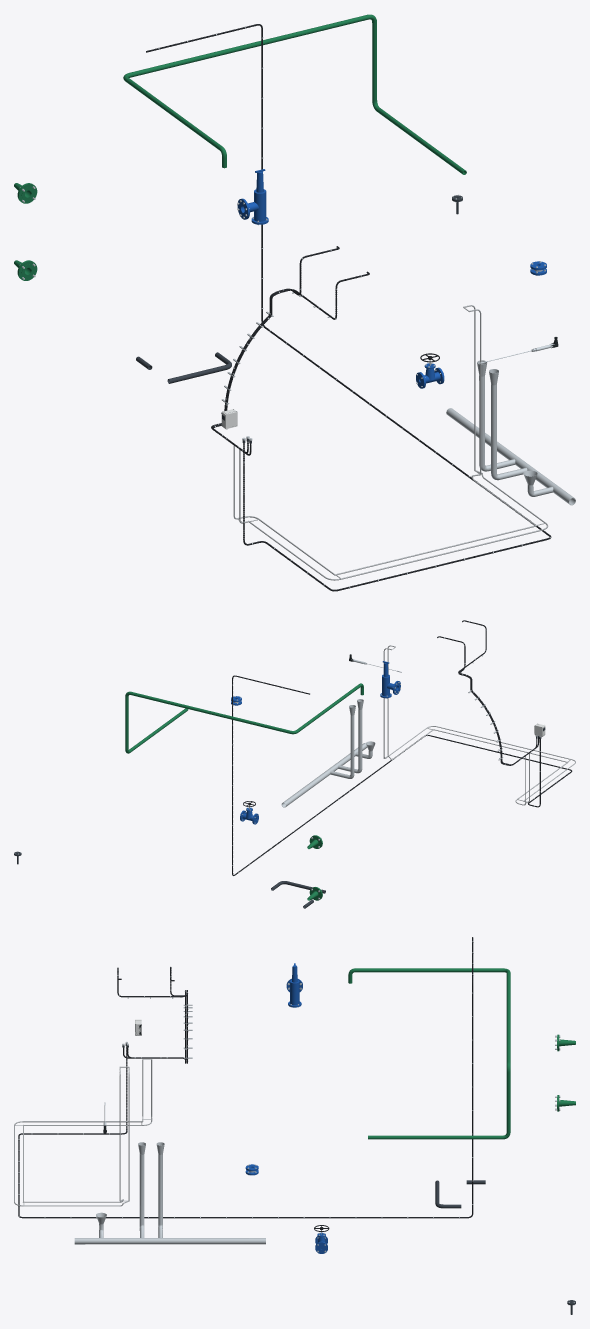
The picture shows the model from 3 angles, top to bottom: view 1: azimuth 30°, elevation 25°; view 2: azimuth 150°, elevation 25°; view 3: azimuth 270°, elevation 25°; orthographic projection. The views are drawn at different scales.
Parts seen in each view (by area): view 1: local_open_drains / steel, cables / zinc, to_direct / green, mod_direct_drive_cable / black, safety_1 / blue, wiring_lp200 / black, eco_inlet_adapter / green; view 2: local_open_drains / steel, to_direct / green, cables / zinc, mod_direct_drive_cable / black, safety_1 / blue, wiring_lp200 / black; view 3: local_open_drains / steel, mod_direct_drive_cable / black, cables / zinc, to_direct / green, direct_inlet / green.
Boxes of the visible parts, x1,y1,x2,y2 form: local_open_drains / steel: (446,360,575,505); cables / zinc: (233,305,548,580); to_direct / green: (123,14,466,174); mod_direct_drive_cable / black: (146,24,551,591); safety_1 / blue: (237,169,268,224); wiring_lp200 / black: (212,271,369,455); eco_inlet_adapter / green: (14,183,37,280); local_open_drains / steel: (281,699,375,807); to_direct / green: (125,691,309,753); cables / zinc: (383,645,575,805); mod_direct_drive_cable / black: (232,675,572,875); safety_1 / blue: (380,661,400,698); wiring_lp200 / black: (458,620,539,764); local_open_drains / steel: (74,1142,265,1244); mod_direct_drive_cable / black: (18,937,473,1218); cables / zinc: (14,1059,152,1206); to_direct / green: (368,968,510,1139); direct_inlet / green: (348,968,453,983).
Size of the model in its own units: 5.03 by 2.95 by 6.07.
